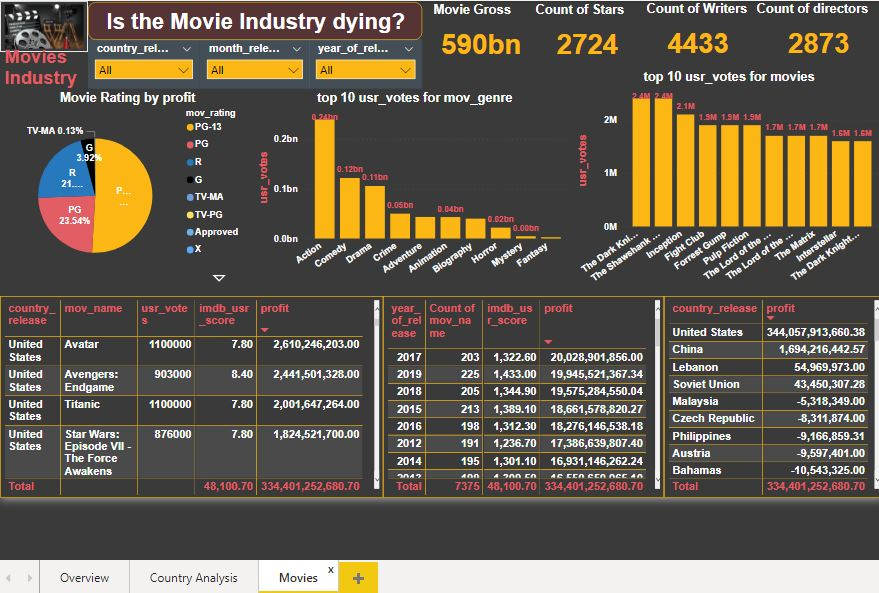

What the dashboard file says about the page in this screenshot:
{"tool":"powerbi","page":{"name":"Movies","canvas":[1280,720],"ordinal":2},"visuals":[{"type":"image","box":[0,0,127.4,73.8],"z":0},{"type":"textbox","box":[1.7,60.9,123.5,74.8],"z":1000},{"type":"card","title":"Movie Gross","fields":{"Values":["cleaned_movies_industry.mov_gross"]},"box":[622.6,1.4,147.7,97],"z":3000},{"type":"textbox","box":[127.4,1.4,483.6,55],"z":4000},{"type":"slicer","fields":{"Values":["cleaned_movies_industry.year_of_release"]},"box":[447.4,55,163.6,72.4],"z":8000},{"type":"slicer","fields":{"Values":["cleaned_movies_industry.month_release"]},"box":[289.6,55,159.3,72.4],"z":9000},{"type":"slicer","fields":{"Values":["cleaned_movies_industry.country_release"]},"box":[127.4,55,162.2,72.4],"z":10000},{"type":"pieChart","title":" Movie Rating by profit","fields":{"Y":["cleaned_movies_industry.profit"],"Category":["cleaned_movies_industry.mov_rating"]},"box":[1.7,128.7,367,285.2],"z":11000},{"type":"columnChart","title":"top 10 usr_votes for movies","fields":{"Category":["cleaned_movies_industry.mov_name"],"Y":["cleaned_movies_industry.usr_votes"]},"box":[831.1,98.5,448.9,320],"z":12000},{"type":"tableEx","fields":{"Values":["cleaned_movies_industry.country_release","cleaned_movies_industry.profit"]},"box":[961.7,427.8,318.3,292.2],"z":13000},{"type":"columnChart","title":"top 10 usr_votes for  mov_genre","fields":{"Y":["cleaned_movies_industry.usr_votes"],"Category":["cleaned_movies_industry.mov_genre"]},"box":[368.7,128.7,462.6,285.2],"z":14000},{"type":"tableEx","fields":{"Values":["cleaned_movies_industry.country_release","cleaned_movies_industry.mov_name","cleaned_movies_industry.usr_votes","cleaned_movies_industry.imdb_usr_score","cleaned_movies_industry.profit"]},"box":[0,427.8,554.8,292.2],"z":15000},{"type":"tableEx","fields":{"Values":["cleaned_movies_industry.year_of_release","cleaned_movies_industry.mov_name","cleaned_movies_industry.imdb_usr_score","cleaned_movies_industry.profit"]},"box":[554.8,427.8,407,292.2],"z":15002},{"type":"card","title":"Count of Stars","fields":{"Values":["cleaned_movies_industry.star_name"]},"box":[770.4,1.7,160,97.4],"z":15003},{"type":"card","title":"Count of Writers","fields":{"Values":["cleaned_movies_industry.writer_name"]},"box":[931.7,0,158.9,98],"z":15004},{"type":"card","title":"Count of directors","fields":{"Values":["cleaned_movies_industry.director_name"]},"box":[1090.3,0,189.7,98.5],"z":15005}]}

Visuals, with their boxes on the page's 1280x720 design canvas (x1, y1, x2, y2). These are canvas units, not pixel positions in the 879x593 screenshot, which may show the page scaled, cropped or inside an application window:
image: box=[0, 0, 127, 74]
textbox: box=[2, 61, 125, 136]
"Movie Gross" card: box=[623, 1, 770, 98]
textbox: box=[127, 1, 611, 56]
slicer - cleaned_movies_industry.year_of_release: box=[447, 55, 611, 127]
slicer - cleaned_movies_industry.month_release: box=[290, 55, 449, 127]
slicer - cleaned_movies_industry.country_release: box=[127, 55, 290, 127]
" Movie Rating by profit" pieChart: box=[2, 129, 369, 414]
"top 10 usr_votes for movies" columnChart: box=[831, 98, 1280, 418]
tableEx - cleaned_movies_industry.country_release x cleaned_movies_industry.profit: box=[962, 428, 1280, 720]
"top 10 usr_votes for  mov_genre" columnChart: box=[369, 129, 831, 414]
tableEx - cleaned_movies_industry.country_release x cleaned_movies_industry.mov_name: box=[0, 428, 555, 720]
tableEx - cleaned_movies_industry.year_of_release x cleaned_movies_industry.mov_name: box=[555, 428, 962, 720]
"Count of Stars" card: box=[770, 2, 930, 99]
"Count of Writers" card: box=[932, 0, 1091, 98]
"Count of directors" card: box=[1090, 0, 1280, 98]
